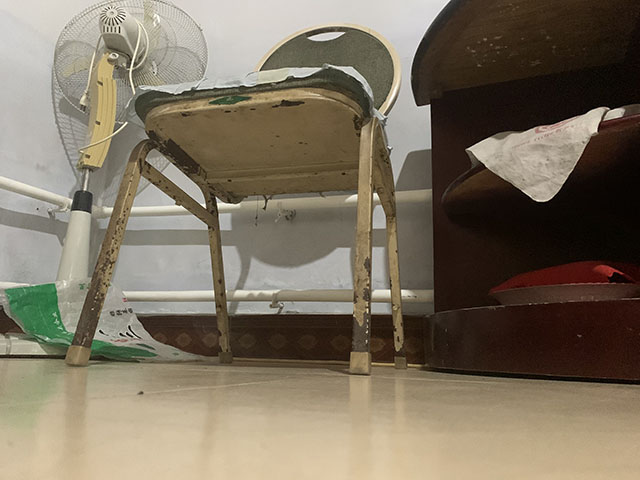cabinet: (408, 1, 640, 386)
stool: (65, 22, 409, 377)
